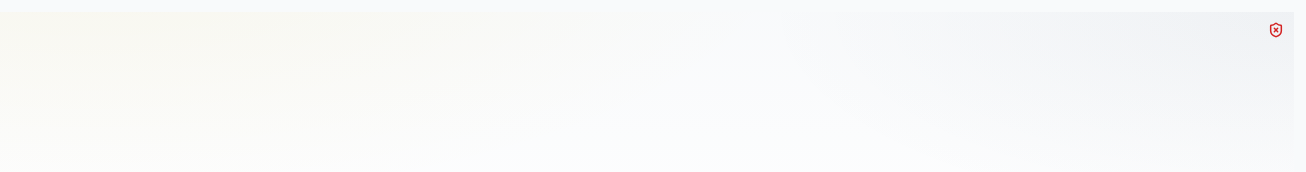
Test: handles a completed no-match lookup without applying identity or verification changes
The image size is (1306, 172).
Later steps or results of the test are not shown.
Click the button.
click(1276, 30)  # box [1258, 12, 1294, 48]
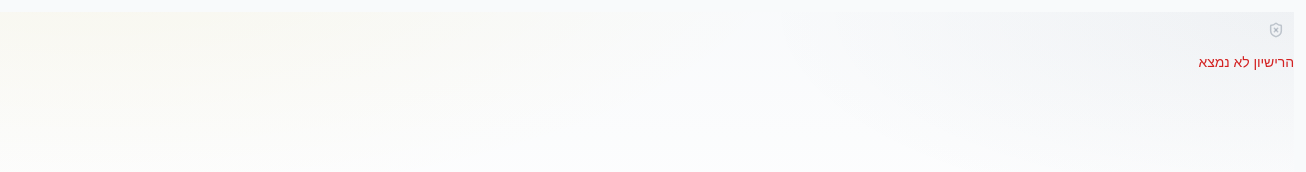
Check: the message "הרישיון לא נמצא" is shown, box [1198, 53, 1294, 70]
Check: the button is disabled, box [1258, 12, 1294, 48]
